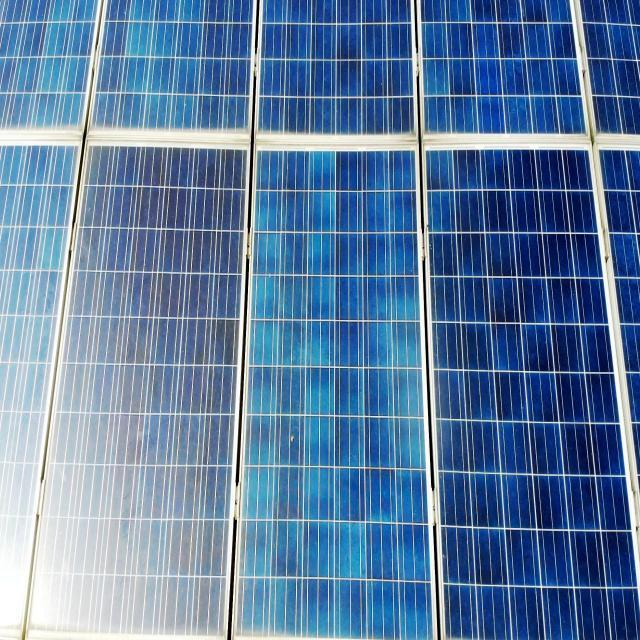no faulty: (28, 137, 248, 640), (419, 141, 637, 638), (242, 137, 440, 637), (4, 0, 640, 135)
